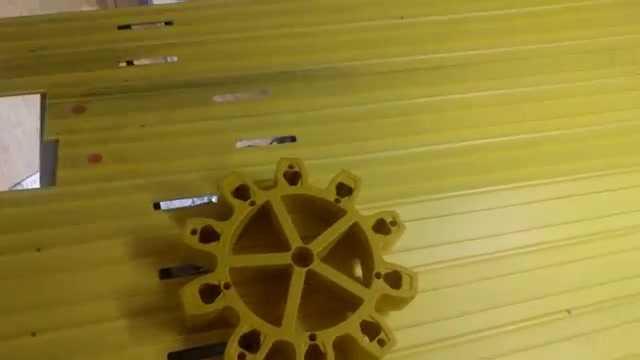gear: (158, 145, 432, 360)
